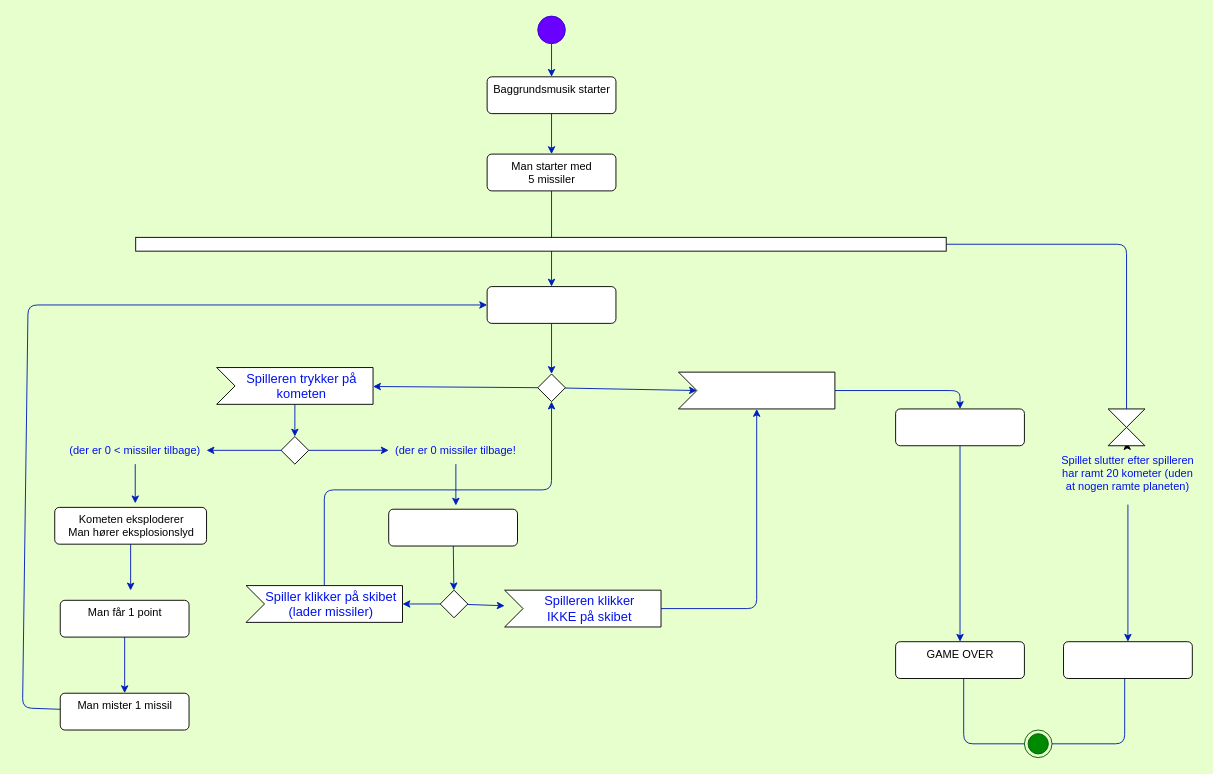
Some shapes in this 1213 by 774 pixel diagram are drawn without their labels. Each missing label, with the box of its shape:
En komet kommer flyvende: (486, 286, 616, 323)
Kometen rammer planeten: (895, 408, 1024, 446)
LEVEL COMPLETE: (1063, 641, 1192, 678)
Pop-up besked: "Du skal lade": (388, 508, 518, 546)
Spilleren trykker IKKE på kometen: (678, 371, 835, 409)
